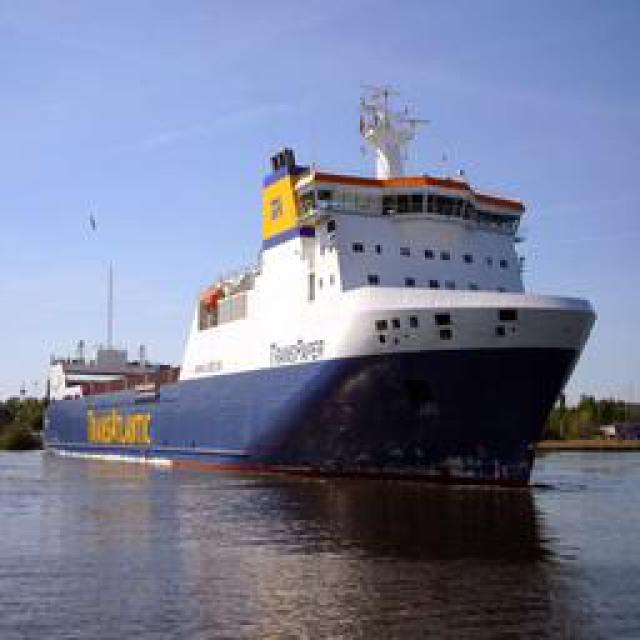Ship: (91, 100, 594, 468)
